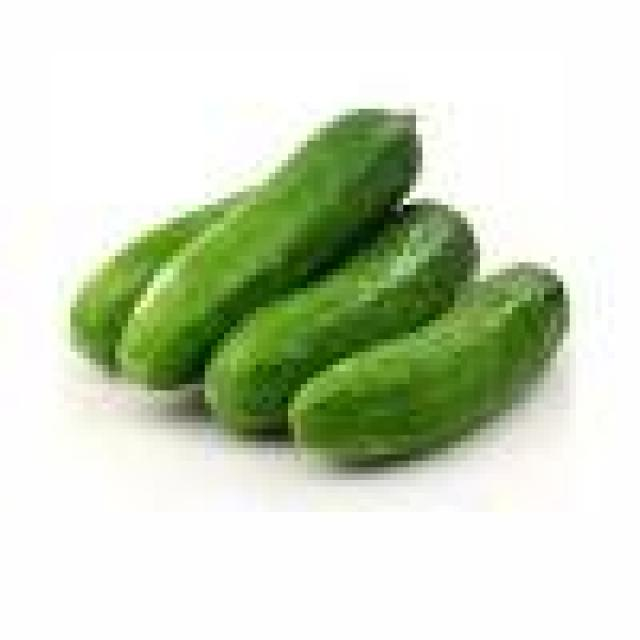Pickle: (118, 110, 418, 387), (205, 205, 478, 432), (290, 265, 566, 461), (70, 194, 243, 368)
